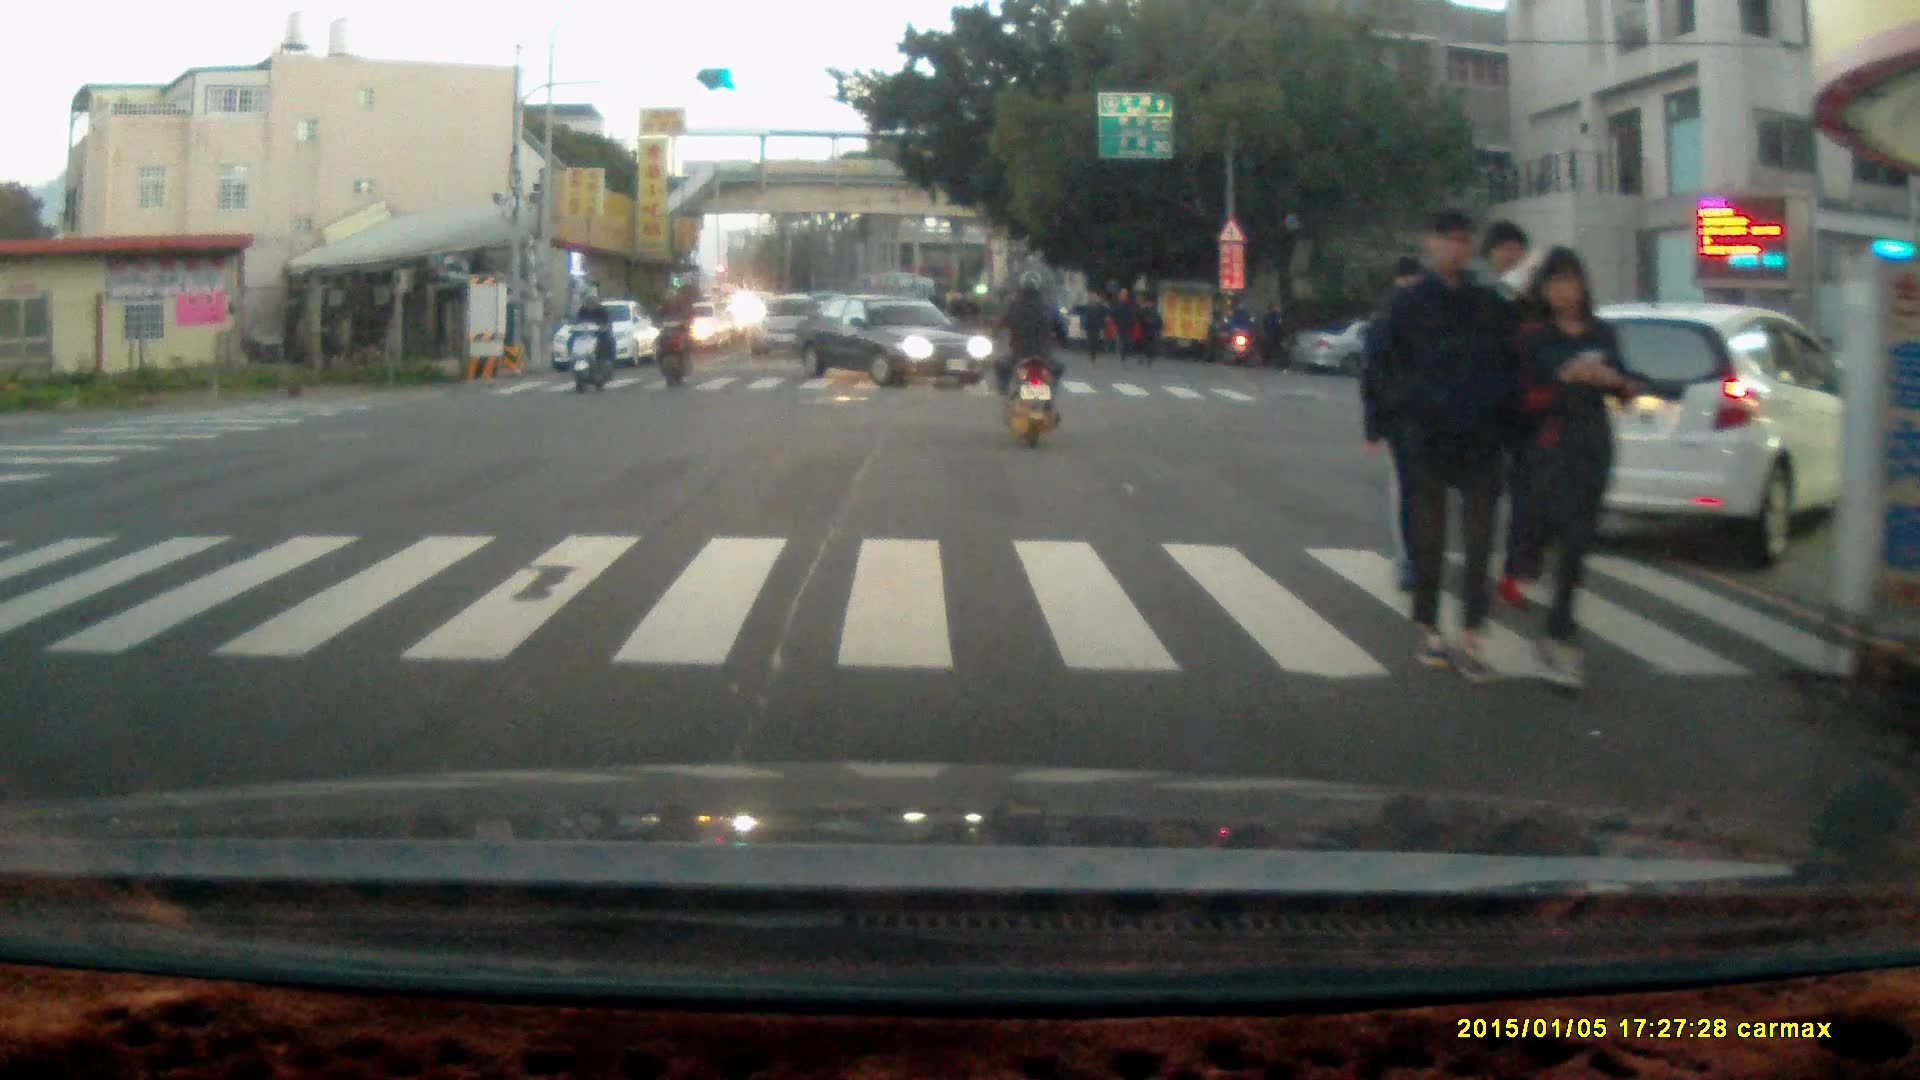pedestrian: (1369, 204, 1523, 692), (1512, 242, 1627, 685), (1106, 281, 1136, 368), (1131, 291, 1163, 369), (1254, 293, 1285, 370), (1075, 287, 1104, 366)
rider: (995, 265, 1067, 449), (566, 284, 616, 394), (646, 283, 696, 388), (1216, 299, 1255, 363)
vehicle: (1522, 297, 1899, 578), (789, 288, 997, 386), (555, 300, 657, 371), (748, 292, 843, 363)
